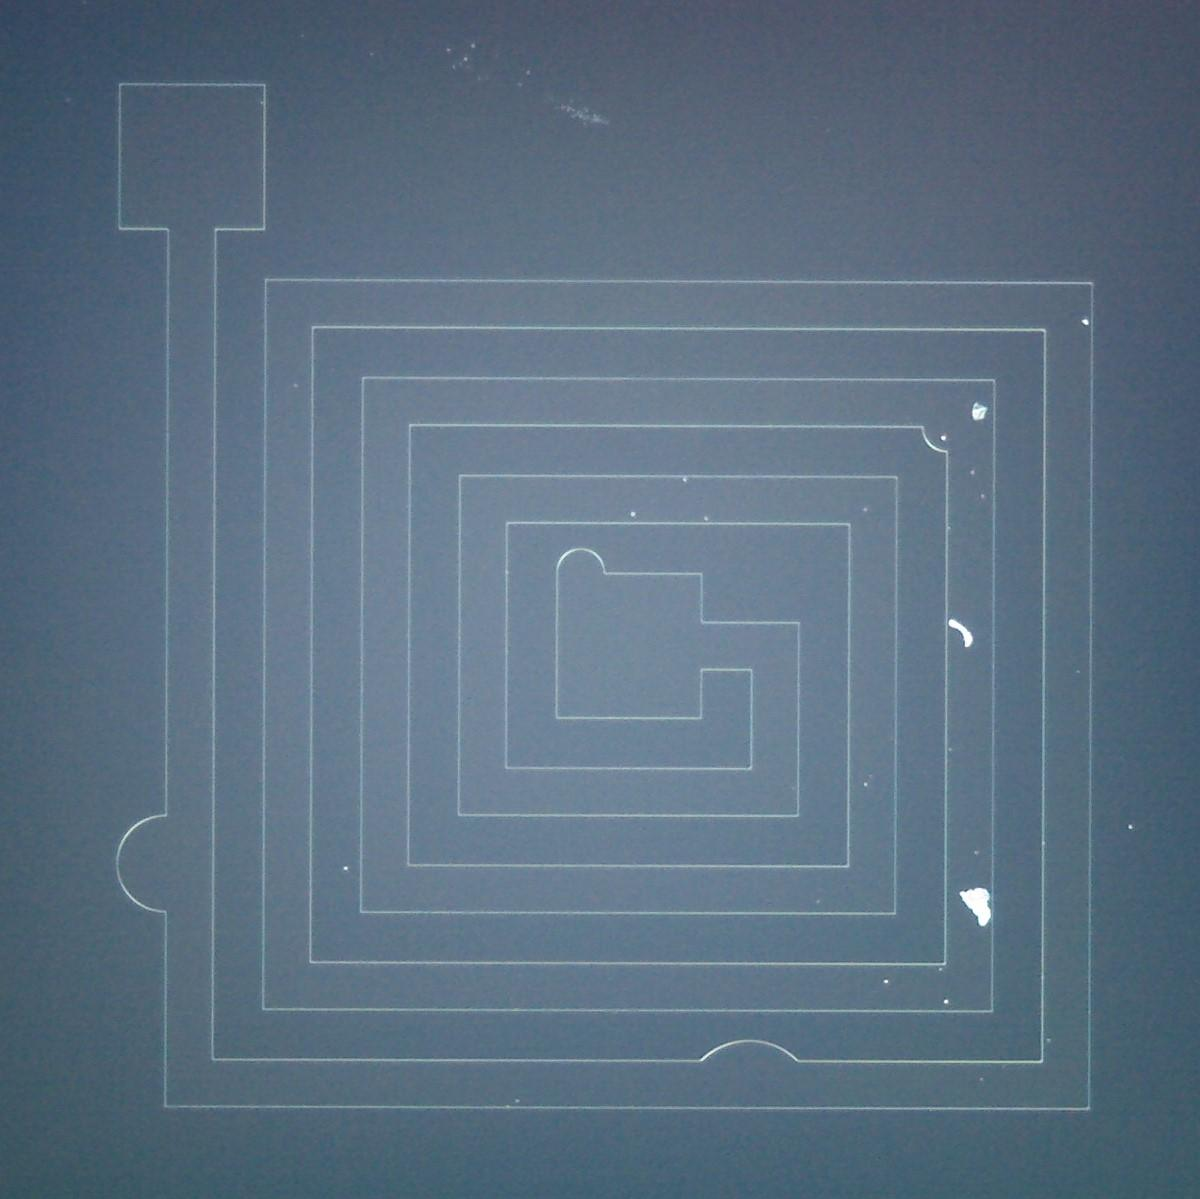B_point: (957, 888, 992, 927), (947, 617, 975, 648), (972, 401, 988, 423), (1075, 314, 1091, 329)
project: (891, 365, 1010, 483), (108, 794, 192, 939), (672, 1023, 818, 1090), (542, 540, 624, 605)
s_point: (75, 0, 90, 14), (338, 861, 352, 875), (1123, 820, 1137, 833), (678, 474, 692, 486), (942, 743, 955, 755), (859, 778, 872, 791), (466, 40, 480, 51), (627, 508, 639, 520), (1073, 665, 1085, 677), (940, 996, 952, 1008), (512, 1094, 524, 1106), (523, 67, 535, 78), (473, 74, 485, 85), (63, 94, 75, 105), (290, 380, 301, 392), (935, 965, 946, 977), (879, 976, 891, 987), (700, 513, 711, 524), (977, 491, 988, 502), (814, 896, 825, 907), (366, 49, 378, 59), (860, 505, 872, 515), (966, 468, 978, 478), (971, 848, 983, 858), (514, 80, 525, 90), (257, 98, 267, 109), (976, 1074, 987, 1084), (461, 54, 471, 65), (442, 46, 455, 55), (944, 524, 956, 533), (492, 51, 502, 60), (1044, 1035, 1054, 1045), (457, 60, 466, 70), (449, 63, 458, 72), (940, 435, 949, 441)
scratch: (552, 98, 616, 128)
